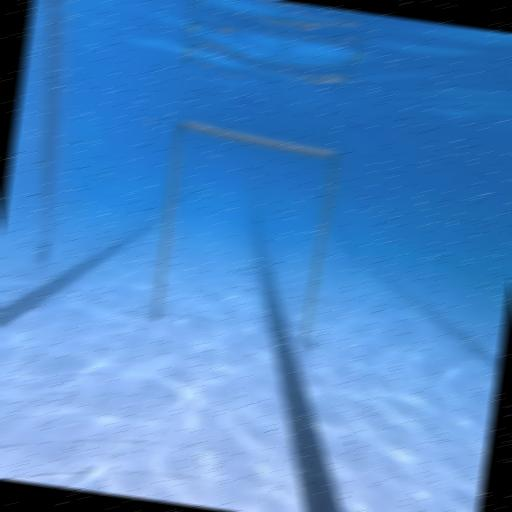gate: (146, 118, 345, 352)
